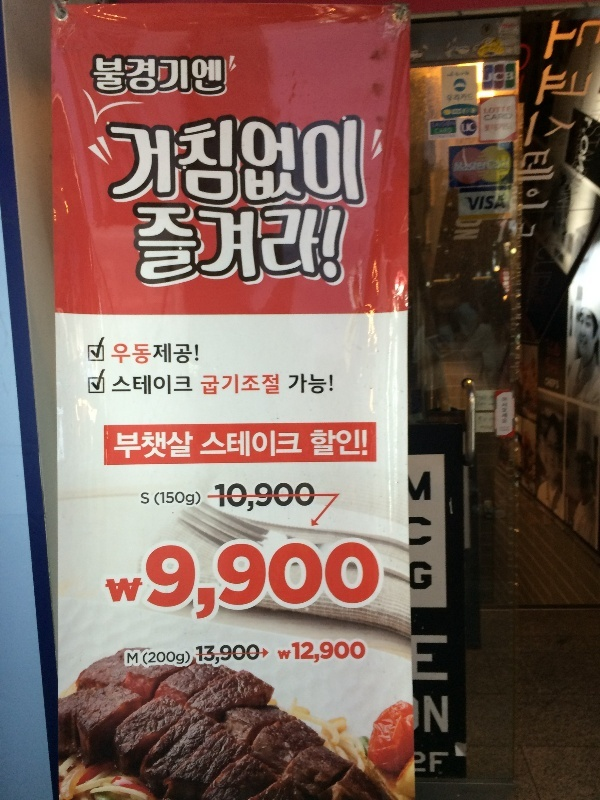text: (545, 15, 560, 245), (561, 15, 576, 245), (577, 15, 592, 245), (593, 15, 600, 245), (113, 114, 128, 212), (129, 114, 144, 212), (145, 114, 160, 212), (161, 114, 176, 212), (177, 114, 192, 212), (193, 114, 208, 212), (209, 114, 224, 212), (225, 114, 240, 212), (241, 114, 256, 212), (257, 114, 272, 212), (273, 114, 288, 212), (289, 114, 304, 212), (305, 114, 320, 212), (321, 114, 336, 212), (337, 114, 352, 212), (353, 114, 367, 212), (113, 542, 128, 630), (129, 542, 144, 630), (145, 542, 160, 630), (161, 542, 176, 630), (177, 542, 192, 630), (193, 542, 208, 630), (209, 542, 224, 630), (225, 542, 240, 630), (241, 542, 256, 630), (257, 542, 272, 630), (273, 542, 288, 630), (289, 542, 304, 630), (305, 542, 320, 630), (321, 542, 336, 630), (337, 542, 352, 630), (353, 542, 368, 630), (145, 204, 160, 290), (161, 204, 176, 290), (177, 204, 192, 290), (193, 204, 208, 290), (209, 204, 224, 290), (225, 204, 240, 290), (241, 204, 256, 290), (257, 204, 272, 290), (273, 204, 288, 290), (289, 204, 304, 290), (305, 204, 320, 290), (321, 204, 336, 290), (98, 542, 112, 630), (417, 471, 432, 547), (337, 204, 350, 290), (132, 204, 144, 290), (369, 542, 380, 630), (577, 116, 592, 177), (417, 637, 432, 683), (433, 637, 448, 683), (97, 56, 112, 98), (113, 56, 128, 98), (129, 56, 144, 98), (145, 56, 160, 98), (161, 56, 176, 98), (177, 56, 192, 98), (193, 56, 208, 98), (209, 56, 224, 98), (408, 471, 416, 547), (106, 114, 112, 212), (433, 698, 448, 736), (225, 483, 240, 515), (241, 483, 256, 515), (257, 483, 272, 515), (273, 483, 288, 515), (289, 483, 304, 515), (542, 15, 544, 245), (417, 563, 432, 592), (209, 430, 224, 458), (225, 430, 240, 458), (241, 430, 256, 458), (257, 430, 272, 458), (273, 430, 288, 458), (289, 639, 304, 667), (305, 639, 320, 667), (321, 639, 336, 667), (337, 639, 352, 667), (177, 433, 193, 459), (321, 430, 336, 457), (337, 430, 352, 457), (353, 430, 368, 457), (289, 430, 303, 458), (129, 433, 144, 459), (145, 433, 160, 459), (161, 433, 176, 459), (275, 639, 288, 667), (353, 639, 366, 667), (433, 753, 448, 776), (113, 343, 128, 365), (129, 343, 144, 365), (145, 343, 160, 365), (161, 343, 176, 365), (177, 343, 192, 365), (305, 375, 320, 397), (209, 645, 224, 667), (225, 645, 240, 667), (241, 645, 256, 667), (305, 483, 315, 515), (129, 376, 144, 397), (145, 376, 160, 397), (161, 376, 176, 397), (177, 376, 192, 397), (209, 375, 224, 396), (225, 375, 240, 396), (241, 375, 256, 396), (257, 375, 272, 396), (290, 375, 304, 397), (215, 483, 224, 515), (117, 433, 128, 459), (129, 651, 144, 669), (145, 651, 160, 669), (161, 651, 176, 669), (425, 698, 432, 736), (321, 375, 333, 397), (90, 56, 96, 98), (116, 376, 128, 397), (177, 651, 191, 669), (311, 430, 320, 457), (197, 645, 208, 667), (161, 491, 176, 507), (177, 491, 192, 507), (503, 397, 512, 423), (411, 637, 416, 683), (465, 160, 480, 174), (481, 160, 496, 174), (481, 196, 496, 210), (545, 376, 560, 390), (417, 753, 426, 776), (497, 71, 512, 83), (497, 122, 512, 134), (410, 563, 416, 592), (468, 196, 480, 210), (497, 160, 508, 174), (497, 106, 511, 117), (449, 92, 464, 102), (273, 375, 280, 396), (484, 71, 496, 83), (465, 121, 476, 134), (203, 430, 208, 458), (454, 160, 464, 174), (497, 113, 512, 122), (484, 106, 496, 117), (485, 122, 496, 134), (193, 491, 201, 507), (202, 375, 208, 396), (497, 196, 506, 210), (433, 120, 448, 128), (193, 343, 198, 365), (484, 113, 496, 122), (413, 698, 416, 733), (436, 126, 448, 134), (449, 71, 464, 77), (225, 56, 227, 98), (155, 491, 160, 507), (465, 92, 473, 102), (481, 416, 494, 422), (499, 427, 512, 433), (417, 698, 419, 733), (481, 394, 495, 399), (481, 425, 495, 430), (501, 24, 512, 30), (145, 493, 150, 505), (449, 120, 455, 128), (414, 753, 416, 776), (430, 753, 432, 776), (257, 645, 259, 667), (193, 376, 195, 397), (449, 126, 454, 134), (481, 404, 494, 407), (449, 698, 450, 736), (141, 493, 144, 505), (462, 121, 464, 134), (465, 71, 469, 77), (449, 753, 450, 776), (476, 394, 480, 399), (513, 24, 516, 30), (127, 651, 128, 669), (475, 404, 480, 407), (513, 71, 514, 83), (513, 122, 514, 134), (513, 113, 514, 122), (479, 416, 480, 422), (479, 425, 480, 430)
